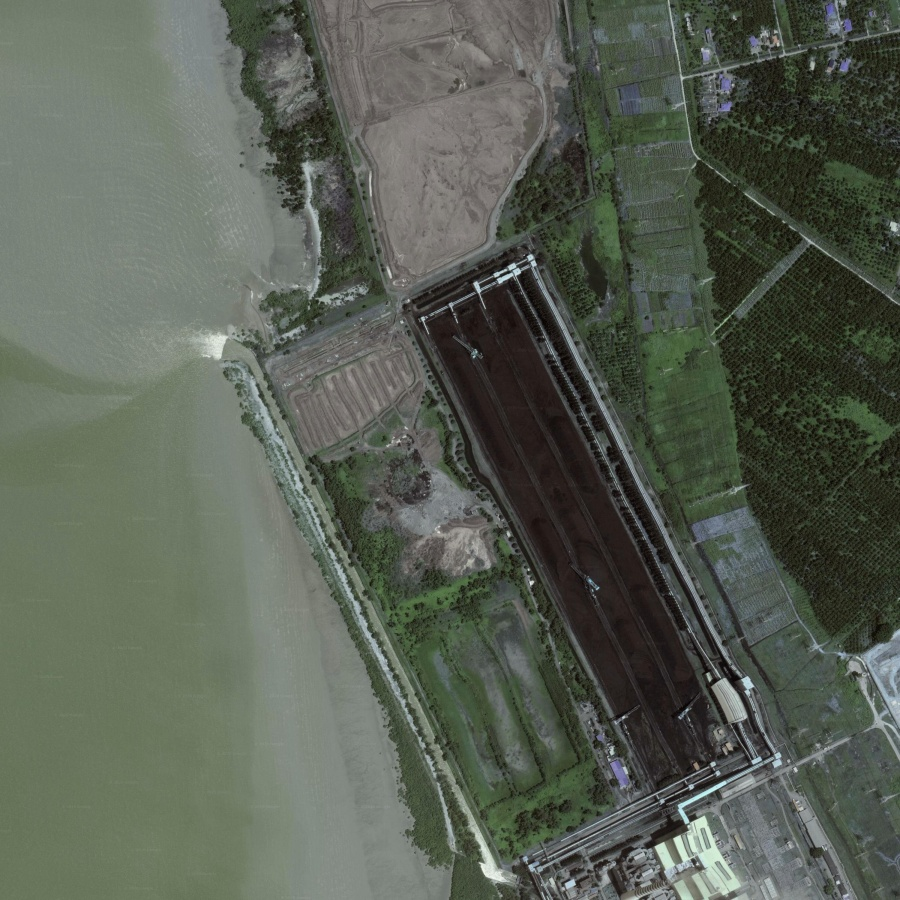PowerPlant: (427, 256, 750, 794)
